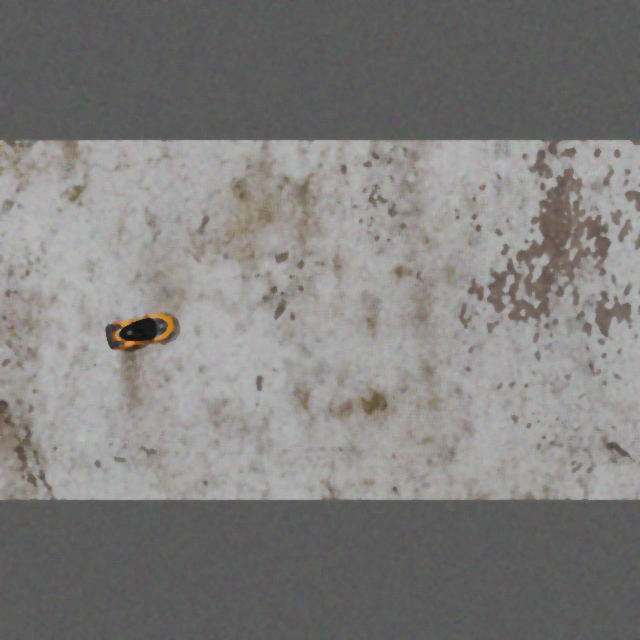car: (102, 309, 179, 353)
